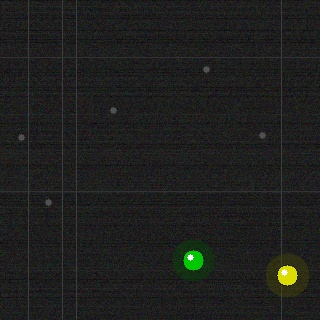green_normal: (181, 248, 205, 272)
yellow_warning: (275, 263, 299, 287)
